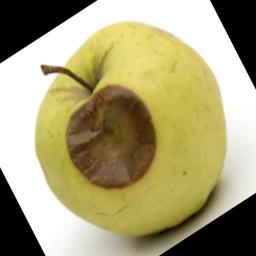Apple Rotten: (7, 12, 254, 252)
